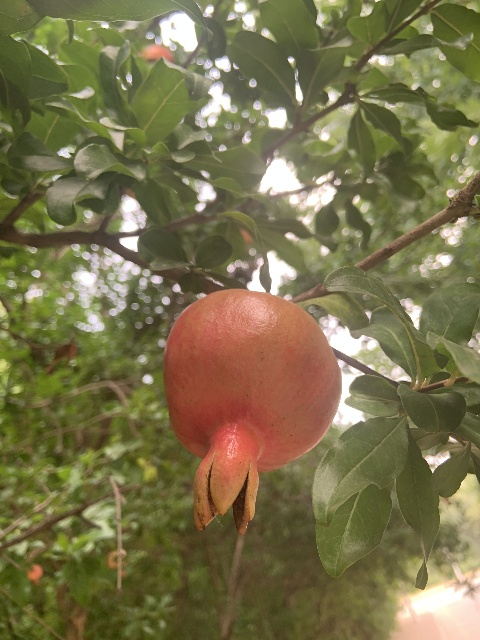ripe: (162, 287, 341, 534)
